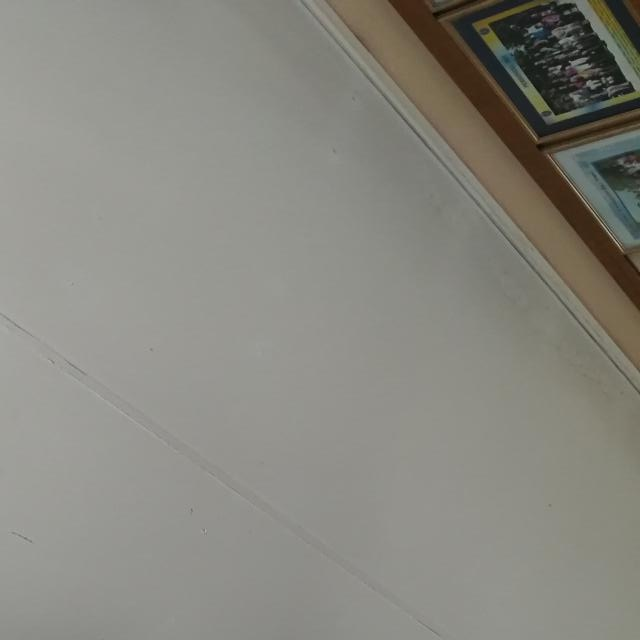fluorescent tube: (0, 446, 442, 640)
